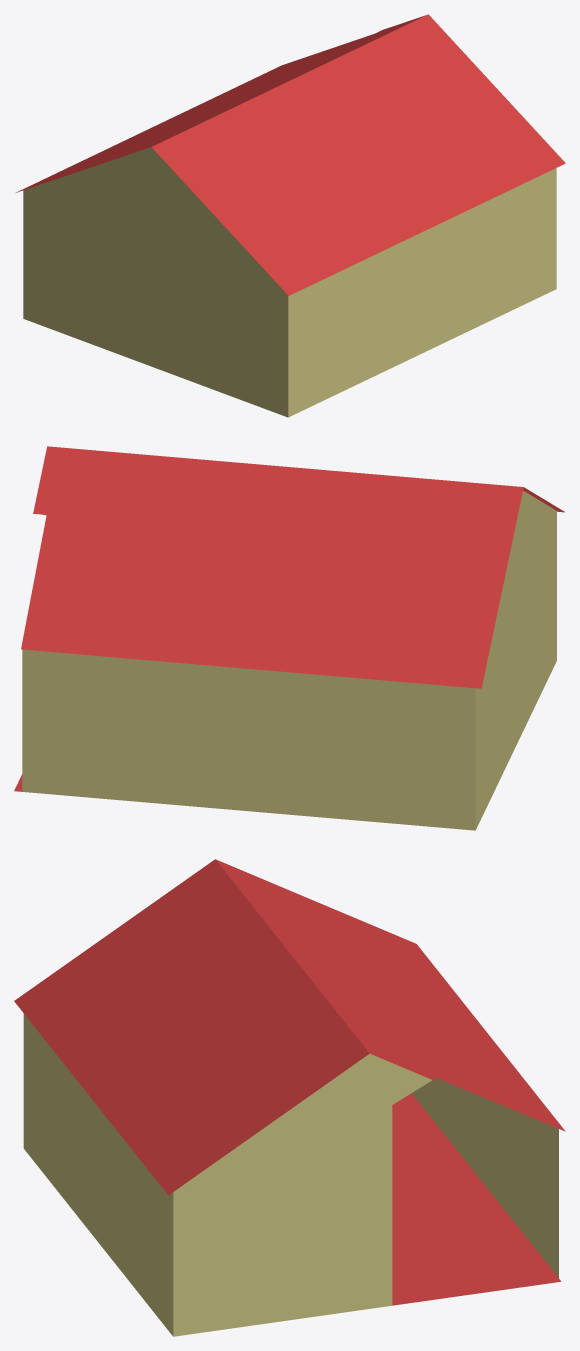
3 views of the same model, one above another, from view 1: azimuth 30°, elevation 25°; view 2: azimuth 150°, elevation 25°; view 3: azimuth 270°, elevation 25° (orthographic). The views are drawn at different scales.
Bounding box in the file's own units: 19.55 × 18.13 × 9.37.
